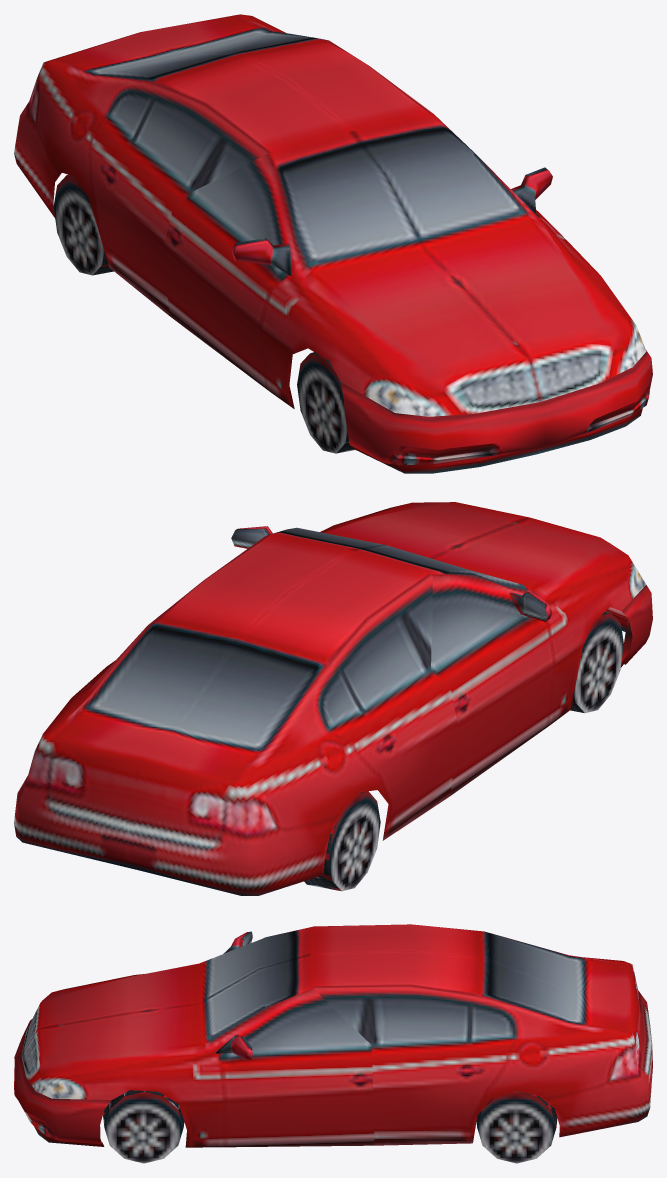
File: Saloon.fbx
The picture shows the model from 3 angles, top to bottom: view 1: azimuth 30°, elevation 25°; view 2: azimuth 150°, elevation 25°; view 3: azimuth 270°, elevation 25°; orthographic projection. The views are drawn at different scales.
Parts seen in each view (by area): view 1: Saloon; view 2: Saloon; view 3: Saloon.
Part boxes in pixels (x1,y1,x2,y2): Saloon: (14,14,652,473); Saloon: (14,502,652,895); Saloon: (14,924,652,1163).
Size of the model in its own units: 1.24 by 0.789 by 2.81.
1 material, 1 textured.
